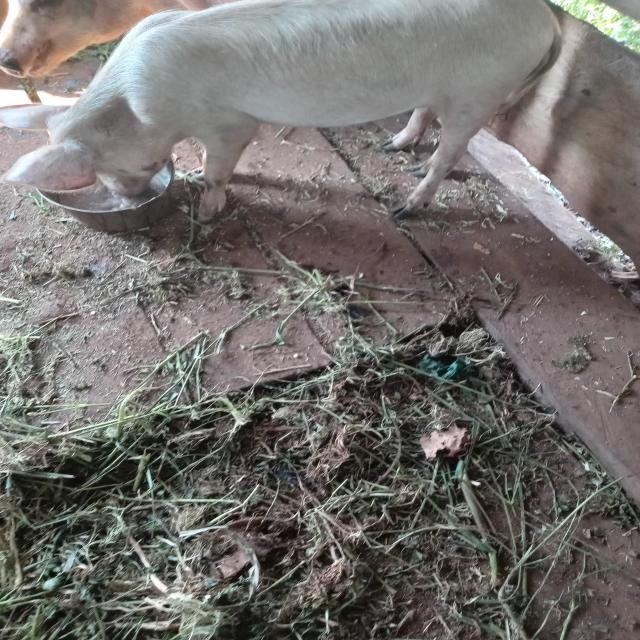pig: (0, 0, 595, 277)
